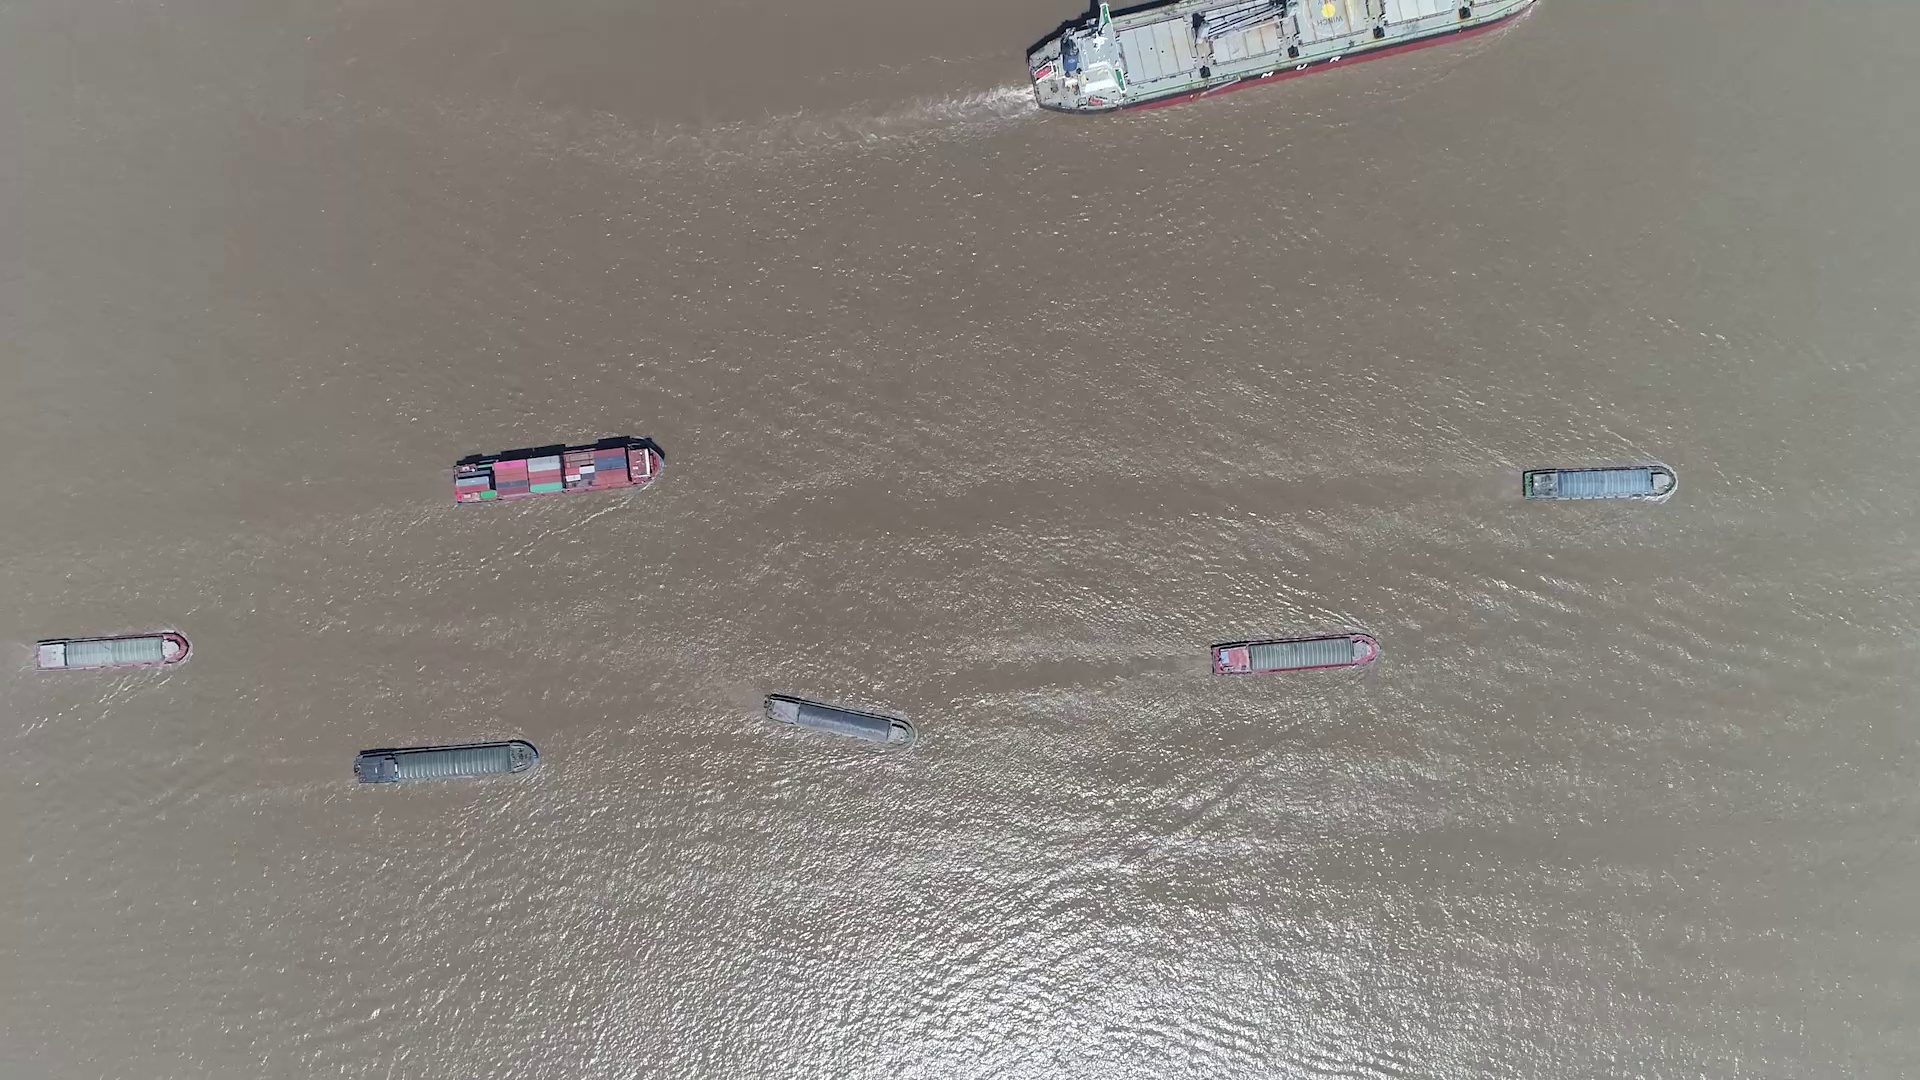ship: (1026, 4, 1539, 116), (451, 440, 665, 502), (355, 738, 541, 785), (764, 694, 916, 748), (1213, 633, 1381, 675), (33, 632, 190, 671), (1520, 465, 1675, 500)
